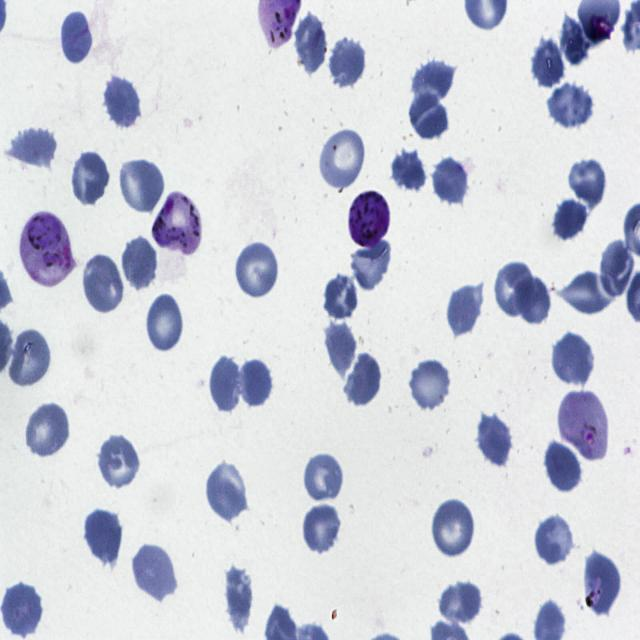difficult: (19, 209, 76, 286)
gametocyte: (347, 191, 390, 249)
red blood cell: (556, 266, 619, 319), (318, 126, 367, 192), (129, 539, 177, 602), (430, 499, 478, 561), (580, 549, 623, 618), (80, 251, 126, 315), (24, 399, 72, 460), (6, 326, 52, 389), (118, 156, 166, 216), (234, 239, 280, 301), (205, 461, 248, 522), (550, 330, 596, 387), (96, 432, 141, 490), (291, 10, 329, 78), (69, 148, 112, 208), (494, 260, 538, 318), (83, 505, 124, 566), (409, 356, 452, 413), (546, 80, 594, 130), (598, 239, 636, 302), (8, 124, 58, 171), (1, 583, 44, 637), (146, 293, 184, 354), (412, 56, 460, 104), (344, 351, 384, 408), (511, 272, 553, 326), (322, 319, 358, 382), (348, 240, 392, 291), (102, 74, 142, 130), (328, 34, 368, 90), (222, 563, 254, 633), (532, 516, 575, 568), (303, 451, 345, 504), (475, 412, 514, 469), (302, 502, 343, 556), (444, 283, 484, 338), (429, 155, 472, 206), (543, 439, 582, 495), (567, 156, 608, 209), (209, 354, 245, 414), (440, 580, 482, 630), (122, 234, 158, 292), (60, 10, 95, 68), (409, 90, 449, 139), (389, 148, 429, 196), (322, 272, 358, 321), (553, 197, 594, 240), (238, 358, 272, 408), (559, 15, 591, 68), (531, 38, 563, 87)
ring: (558, 389, 610, 459)
trophozoite: (153, 190, 203, 257)
